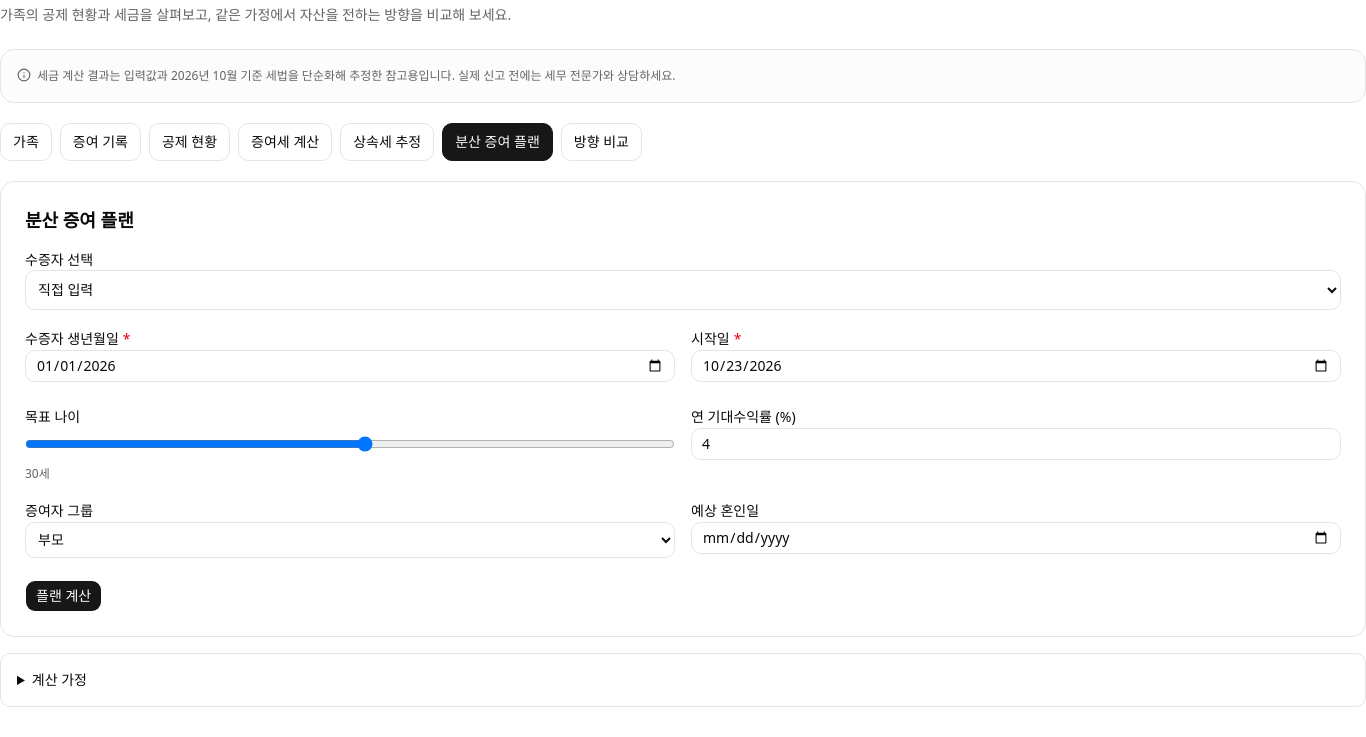
Scenario: 분산 증여 타임라인과 비교 카드·차트
Click the button "플랜 계산": point(64, 596) top-left (25, 580), bottom-right (102, 612)
(page scrolled)
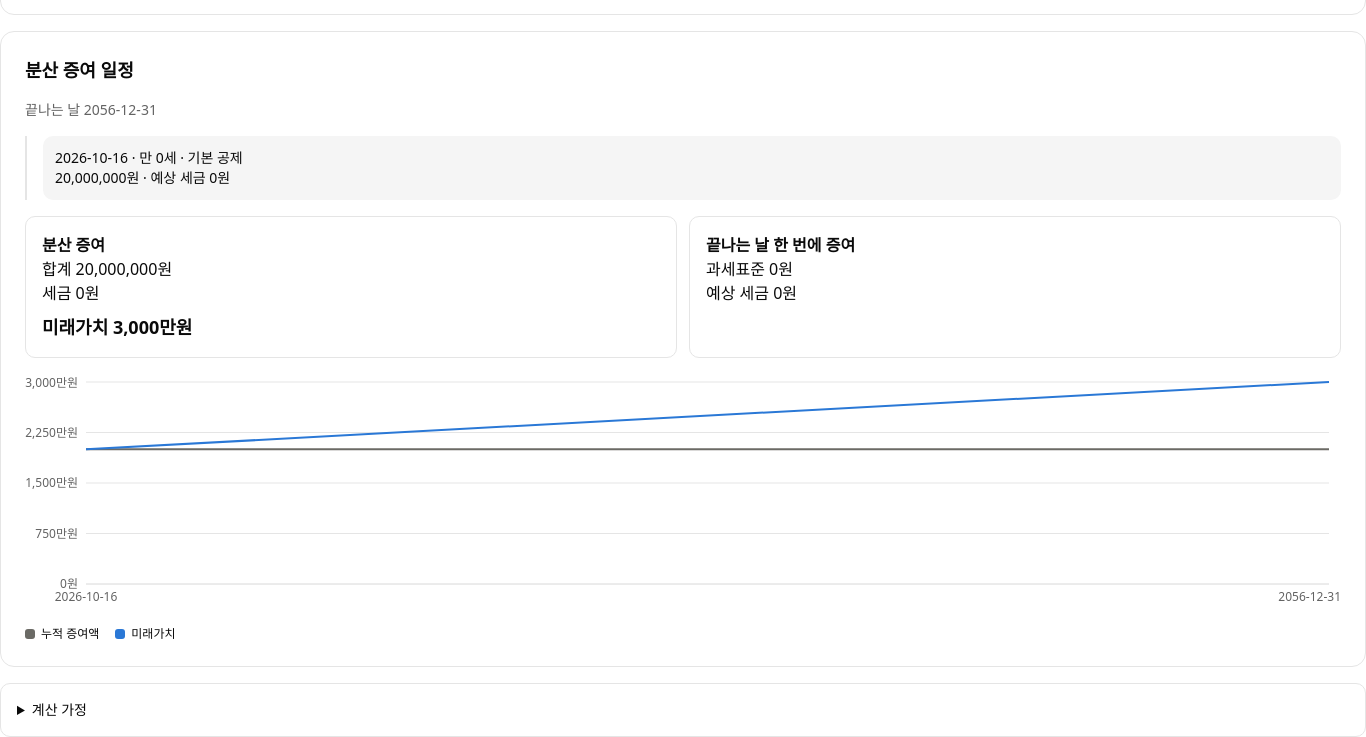
Result: the text "2026-10-16 · 만 0세 · 기본 공제" is shown at top-left (55, 148), bottom-right (243, 166)
Result: the text "끝나는 날 한 번에 증여" is shown at top-left (706, 234), bottom-right (855, 256)
Result: the picture named "누적 증여액과 미래가치" is shown at top-left (25, 374), bottom-right (1341, 614)
